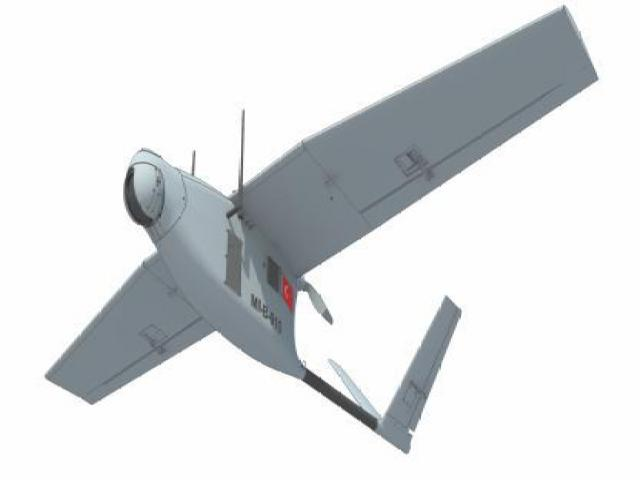uav: (43, 2, 602, 452)
